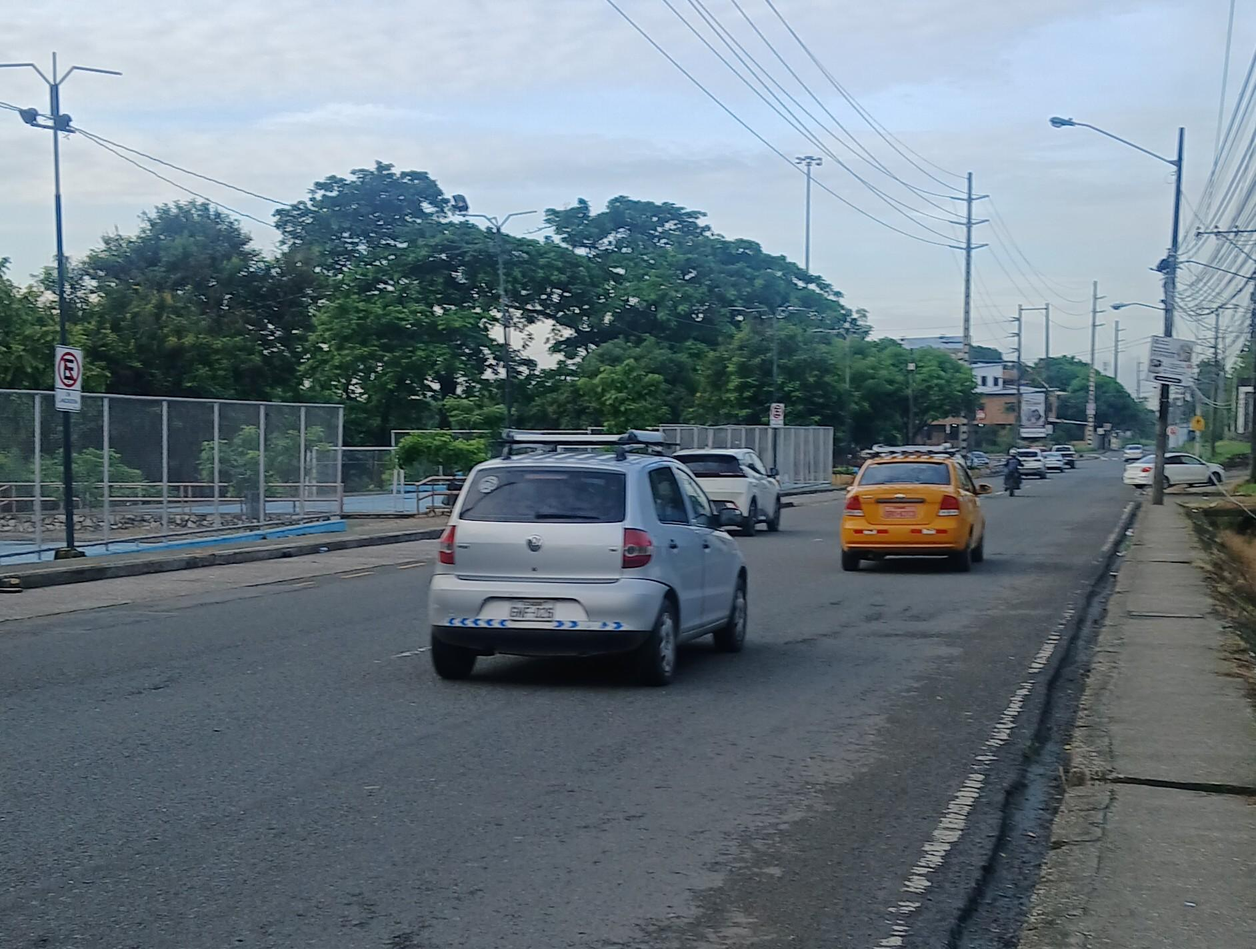license_plate: (509, 601, 554, 620), (881, 504, 918, 519)
